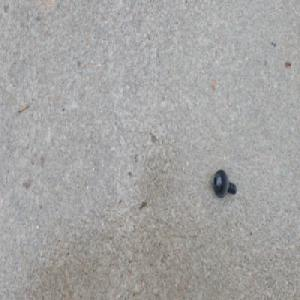BoltWasher: (212, 167, 237, 198)
